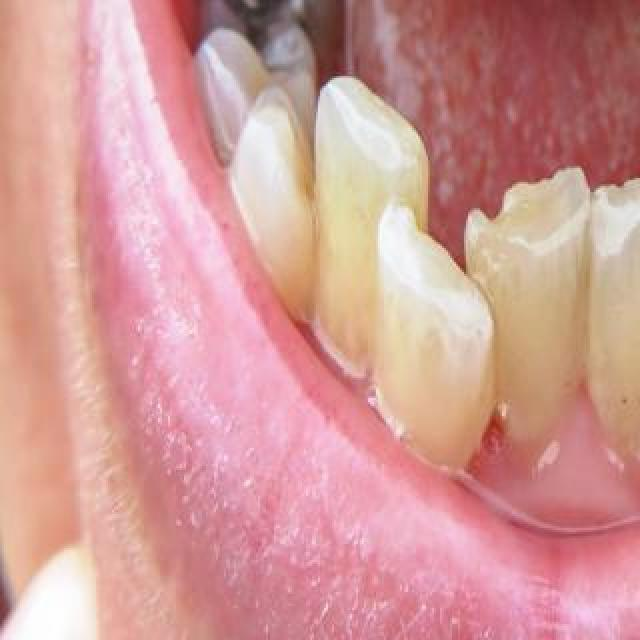maligned: (295, 55, 415, 387), (365, 193, 499, 479), (461, 156, 583, 462), (584, 142, 640, 452)
